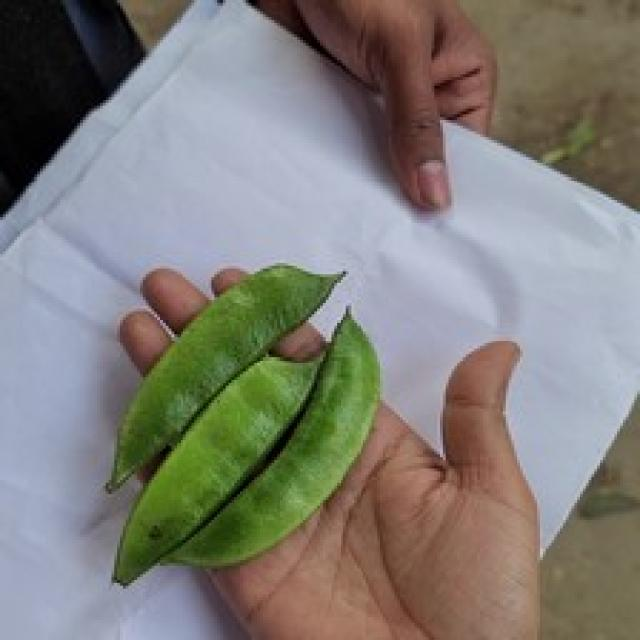Bean: (106, 260, 380, 586)
